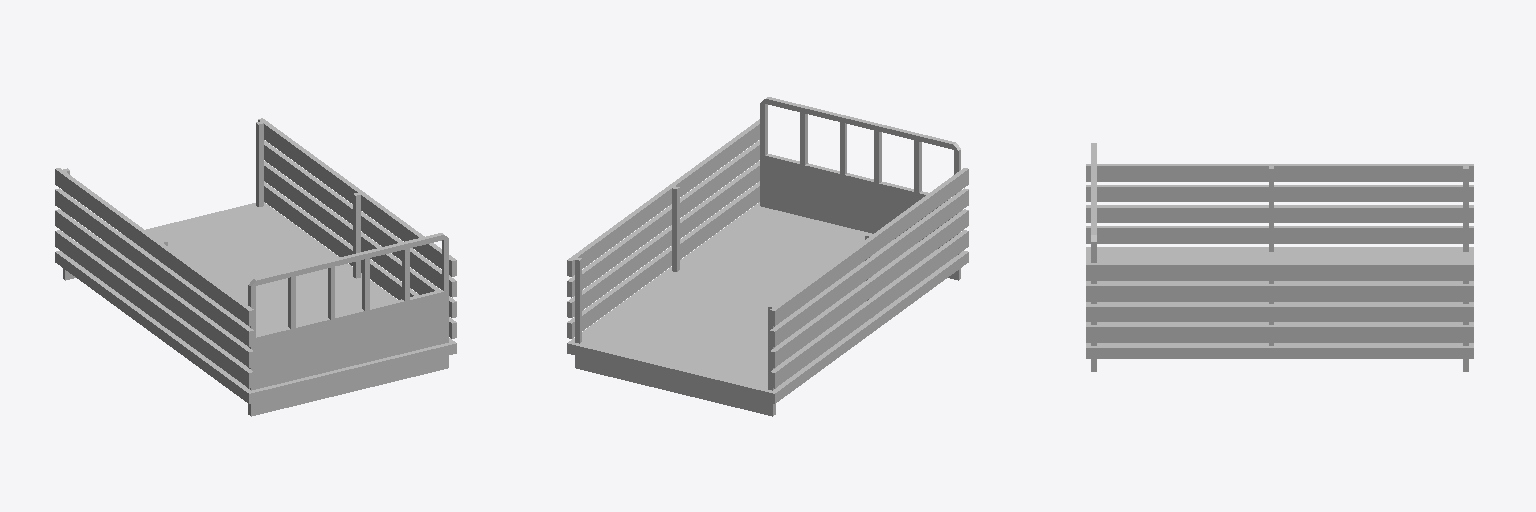
The model's file is brigbedstake.obj.
The picture shows the model from 3 angles: view 1: azimuth 30°, elevation 25°; view 2: azimuth 150°, elevation 25°; view 3: azimuth 270°, elevation 25°; orthographic projection.
Visible parts, largest first — view 1: ObjObject.001; view 2: ObjObject.001; view 3: ObjObject.001.
Boxes of the visible parts, x1=… form: ObjObject.001: x1=55, y1=118, x2=456, y2=416; ObjObject.001: x1=567, y1=97, x2=968, y2=416; ObjObject.001: x1=1086, y1=143, x2=1473, y2=371.
Size of the model in its own units: 2.62 by 1.62 by 4.25.